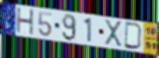1: (83, 18, 94, 43)
5: (38, 10, 54, 38)
9: (61, 13, 78, 42)
D: (123, 21, 144, 51)
H: (15, 7, 35, 36)
X: (103, 19, 123, 48)
